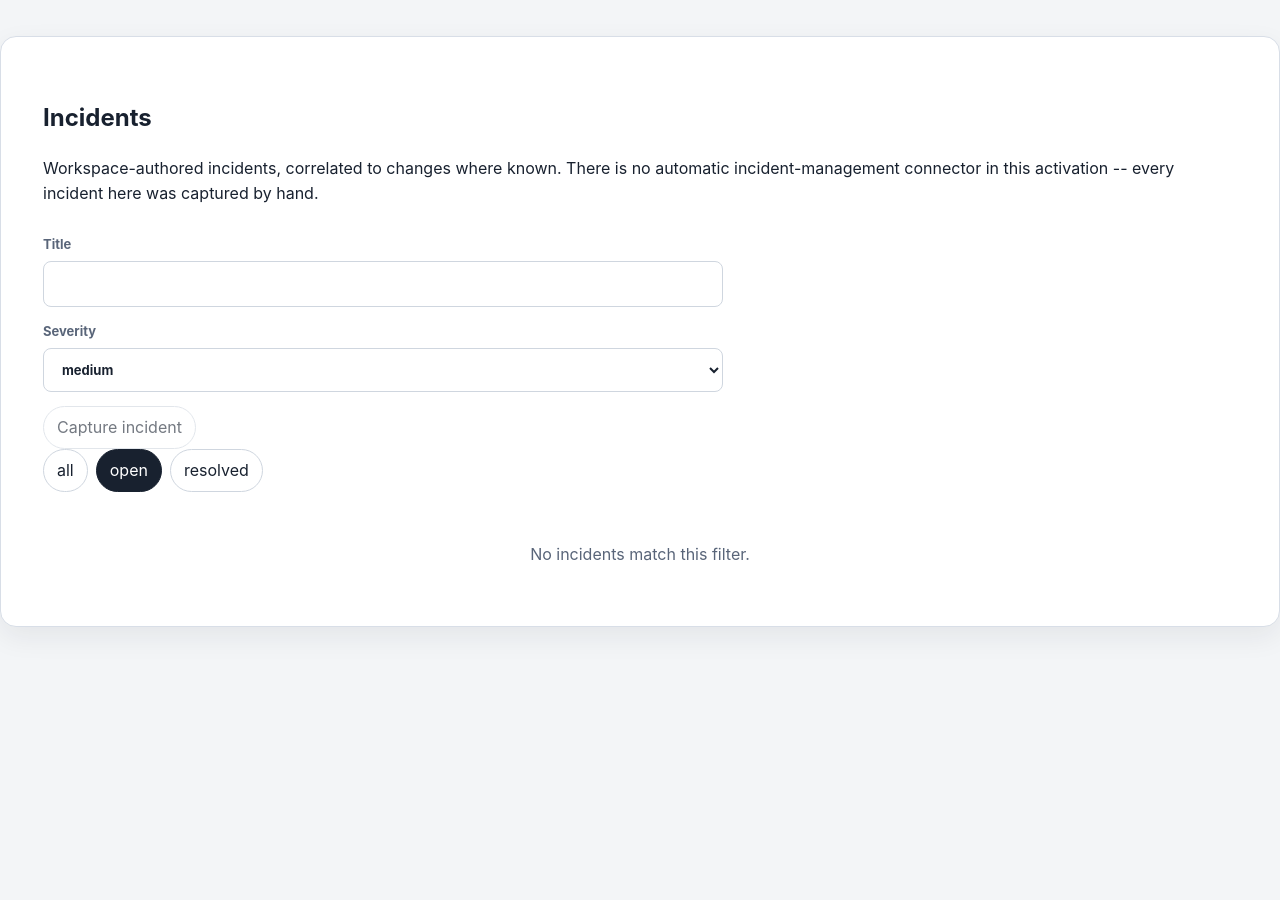
Test case: IncidentsPanel › surfaces a failed incident capture as an alert
Expected: the text "No incidents match this filter." is shown, [530,544,750,564]
In the field named "Incident title": (383, 284) [43,261,723,307], type "Checkout outage"
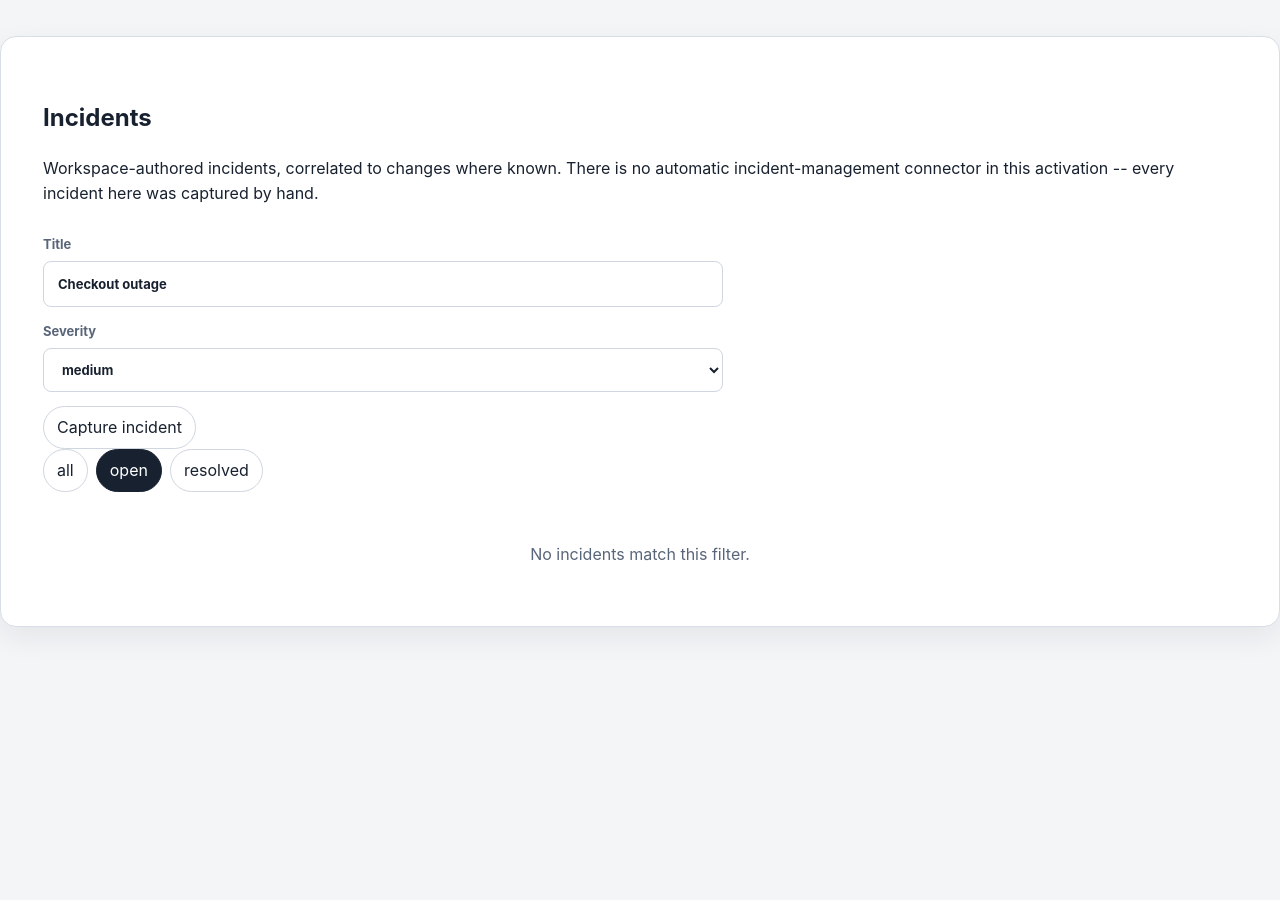
Click the button "Capture incident": (119, 427) [43,406,196,449]
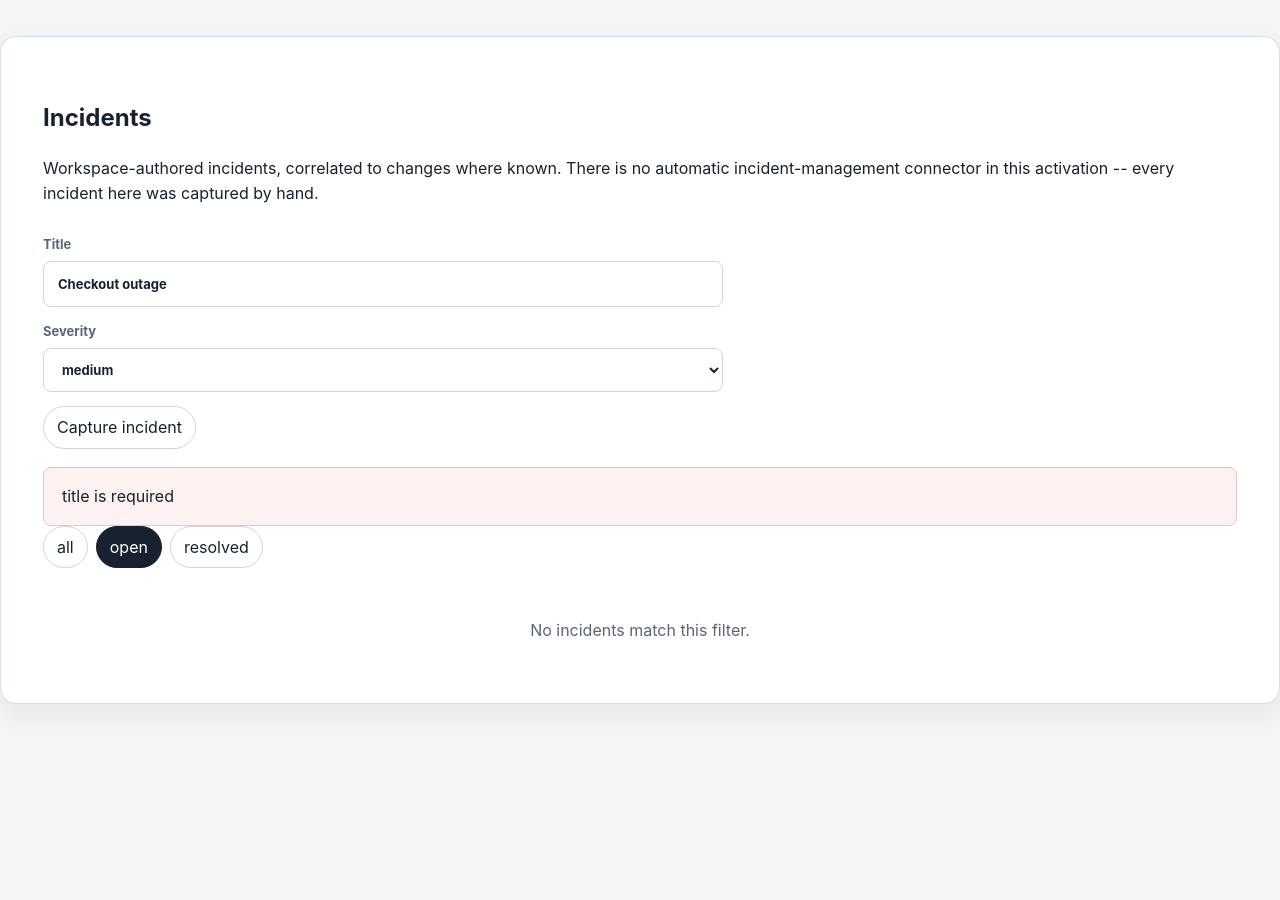
Now the message "title is required" is shown, box [43,467,1237,526]
